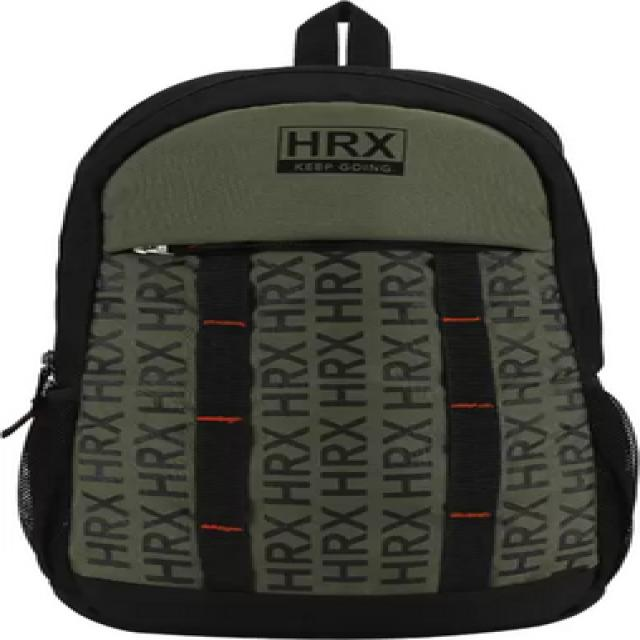backpack: (2, 0, 637, 638)
